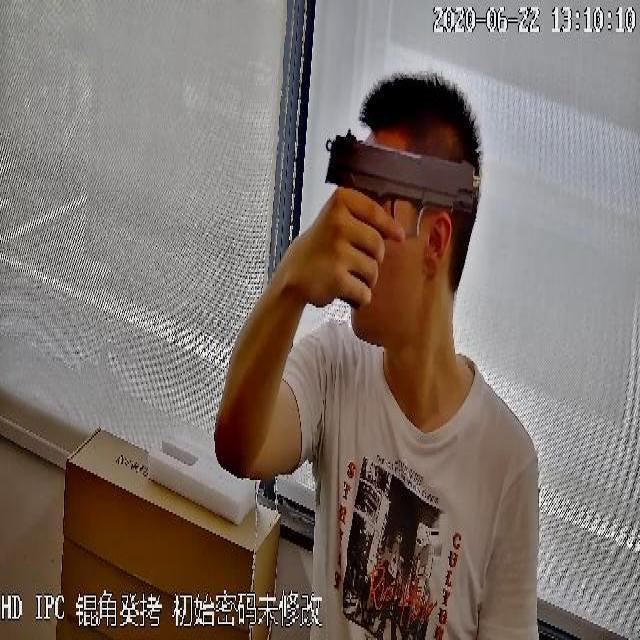pistol: (326, 132, 482, 308)
